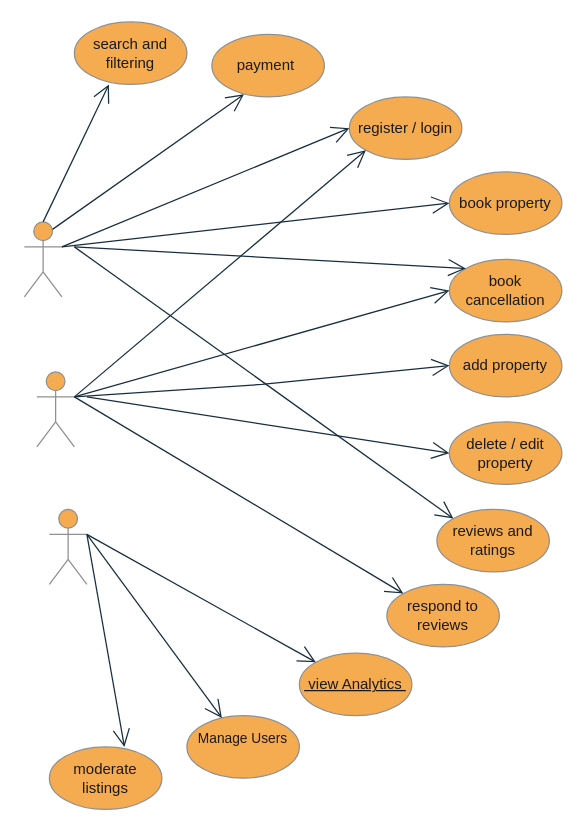
The diagram is 584 pixels wide and 831 high, and some of its shapes have lost their labels. Each missing label, with the centre of its shape:
"admin" goes at pixel 67 546.
"guests" goes at pixel 42 259.
"hosts" goes at pixel 55 409.
